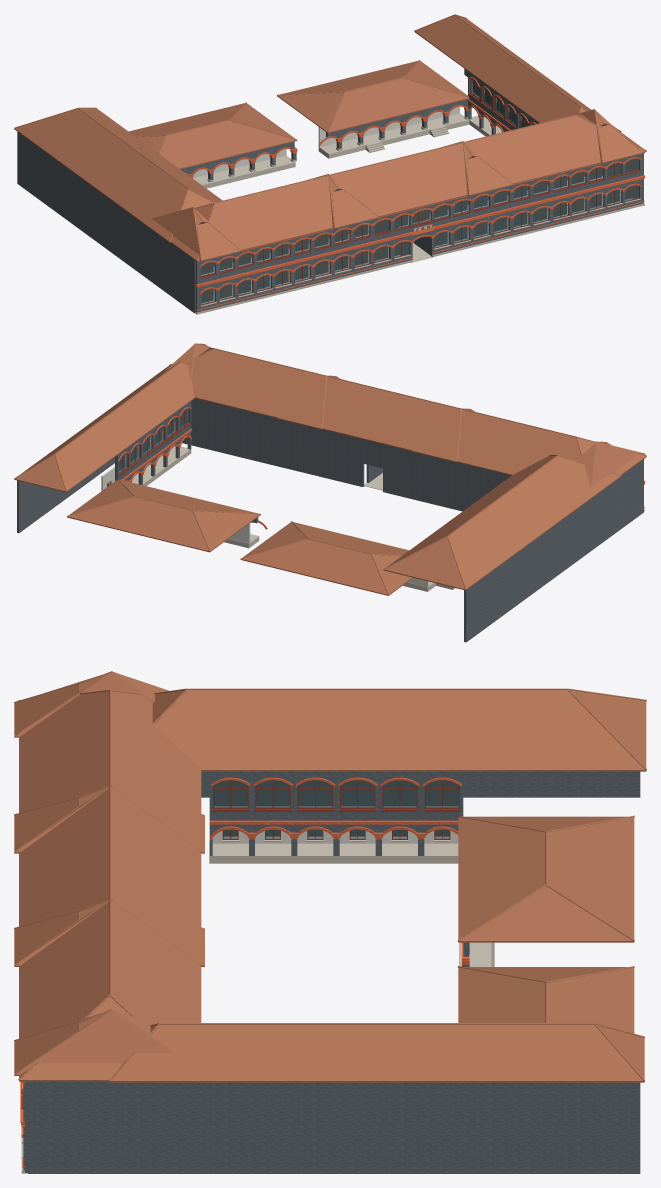
File: changning-st-johns-seaman-hall-courtyard-lod.glb
The picture shows the model from 3 angles, top to bottom: view 1: azimuth 30°, elevation 25°; view 2: azimuth 150°, elevation 25°; view 3: azimuth 270°, elevation 25°; orthographic projection. The views are drawn at different scales.
Visible parts, largest first — view 1: 圣约翰中学西门堂22号楼院廊与东风楼门额; view 2: 圣约翰中学西门堂22号楼院廊与东风楼门额; view 3: 圣约翰中学西门堂22号楼院廊与东风楼门额.
Boxes of the visible parts, box(x1,y1,x2,y2) form: 圣约翰中学西门堂22号楼院廊与东风楼门额: box(14, 14, 646, 314); 圣约翰中学西门堂22号楼院廊与东风楼门额: box(14, 343, 646, 642); 圣约翰中学西门堂22号楼院廊与东风楼门额: box(14, 671, 646, 1173).
Size of the model in its own units: 73.11 by 12.95 by 51.33.
Materials: 9 (2 with a texture image).
